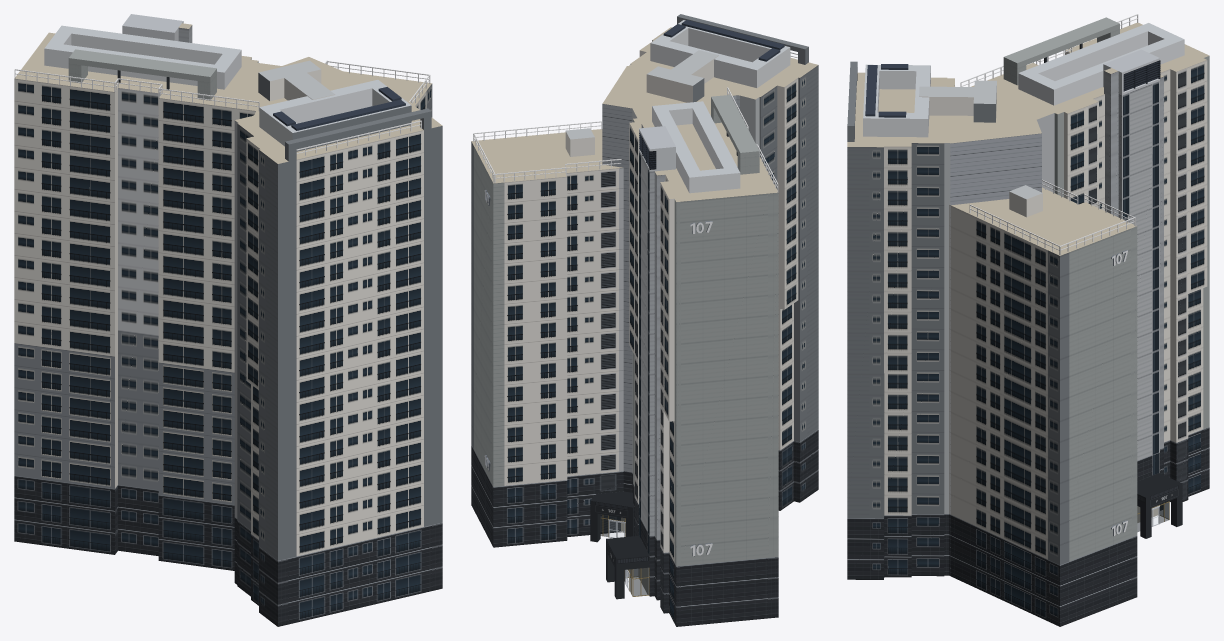
The model's file is place_금파힐107up.glb.
The picture shows the model from 3 angles, left to right: view 1: azimuth 30°, elevation 25°; view 2: azimuth 150°, elevation 25°; view 3: azimuth 270°, elevation 25°; orthographic projection. The views are drawn at different scales.
Parts seen in each view (by area): view 1: WingA_NW_21F, WingC_South_21F, WingB_NE_18F_151sqm, KumhoParkHills_107_UpperOnly; view 2: WingA_NW_21F, WingB_NE_18F_151sqm, WingC_South_21F, KumhoParkHills_107_UpperOnly; view 3: WingB_NE_18F_151sqm, WingA_NW_21F, WingC_South_21F, KumhoParkHills_107_UpperOnly.
Boxes of the visible parts, <box> form: WingA_NW_21F: <box>14,14,282,570</box>; WingC_South_21F: <box>234,60,442,626</box>; WingB_NE_18F_151sqm: <box>324,60,432,117</box>; KumhoParkHills_107_UpperOnly: <box>247,57,367,119</box>; WingA_NW_21F: <box>606,87,778,626</box>; WingB_NE_18F_151sqm: <box>471,121,623,547</box>; WingC_South_21F: <box>628,14,818,510</box>; KumhoParkHills_107_UpperOnly: <box>590,66,749,542</box>; WingB_NE_18F_151sqm: <box>949,179,1137,626</box>; WingA_NW_21F: <box>960,14,1209,538</box>; WingC_South_21F: <box>847,61,996,579</box>; KumhoParkHills_107_UpperOnly: <box>950,82,1041,575</box>.
Size of the model in its own units: 47.37 by 58.6 by 42.26.
136 materials, 82 textured.
